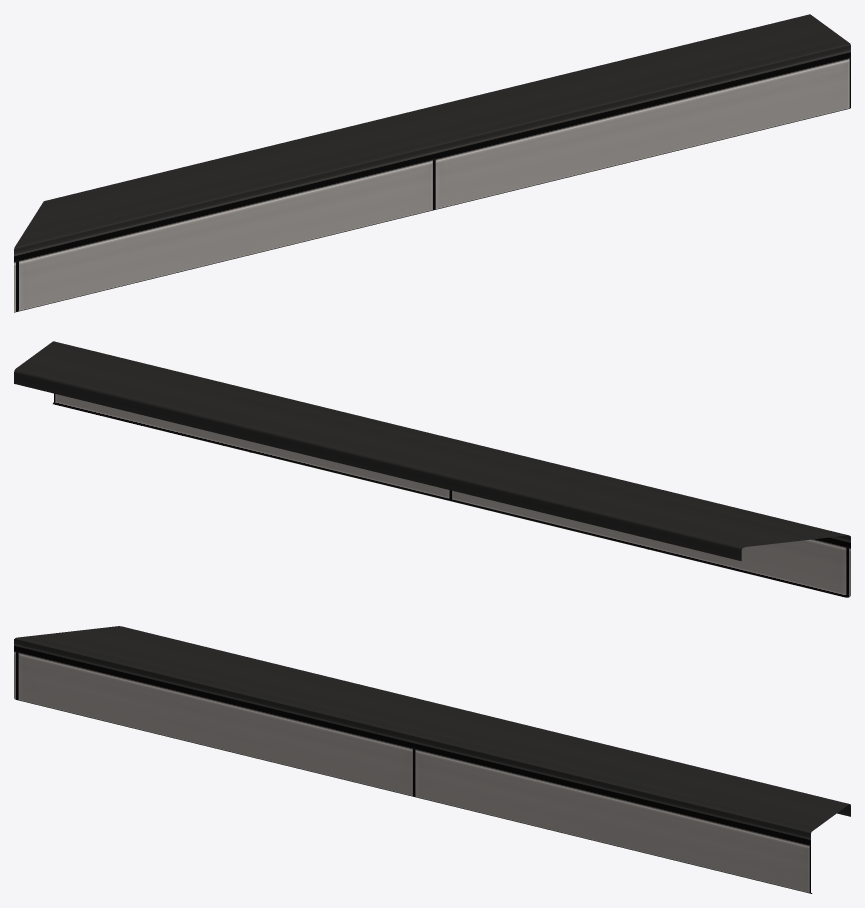
File: RoofTrim_3_OuterCorner.fbx
3 renders of one model, top to bottom at view 1: azimuth 30°, elevation 25°; view 2: azimuth 150°, elevation 25°; view 3: azimuth 330°, elevation 25°, orthographic. The views are drawn at different scales.
Parts seen in each view (by area): view 1: RoofTrim_3_OuterCorner; view 2: RoofTrim_3_OuterCorner; view 3: RoofTrim_3_OuterCorner.
Boxes of the visible parts, x1,y1,x2,y2 form: RoofTrim_3_OuterCorner: (14,14,850,312); RoofTrim_3_OuterCorner: (14,341,850,597); RoofTrim_3_OuterCorner: (14,626,850,893).
Size of the model in its own units: 301 by 22.44 by 26.21.
